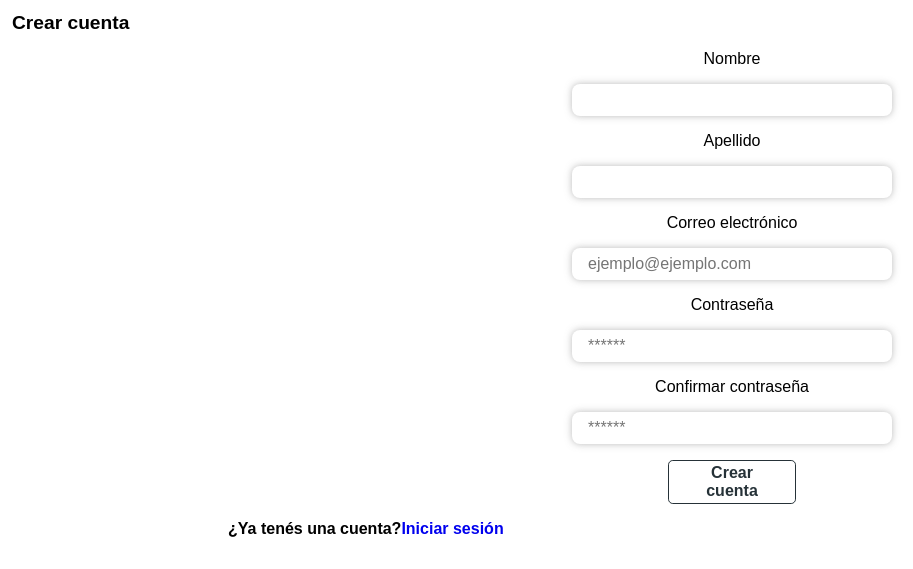
Pruebas en <CreateAccount /> › Funcionamiento del mensaje de error en el input "Confirmar contraseña"
The image size is (913, 569).
Type "123456" into the password field labelled "Contraseña" at (732, 346), box [572, 330, 892, 362]
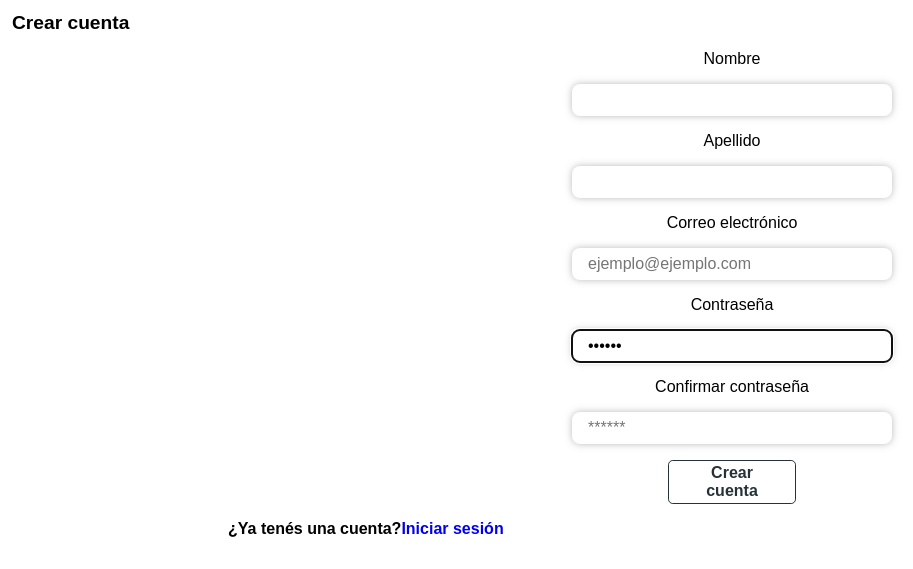
Type "123456789" into the password field labelled "Confirmar contraseña" at (732, 428), box [572, 412, 892, 444]
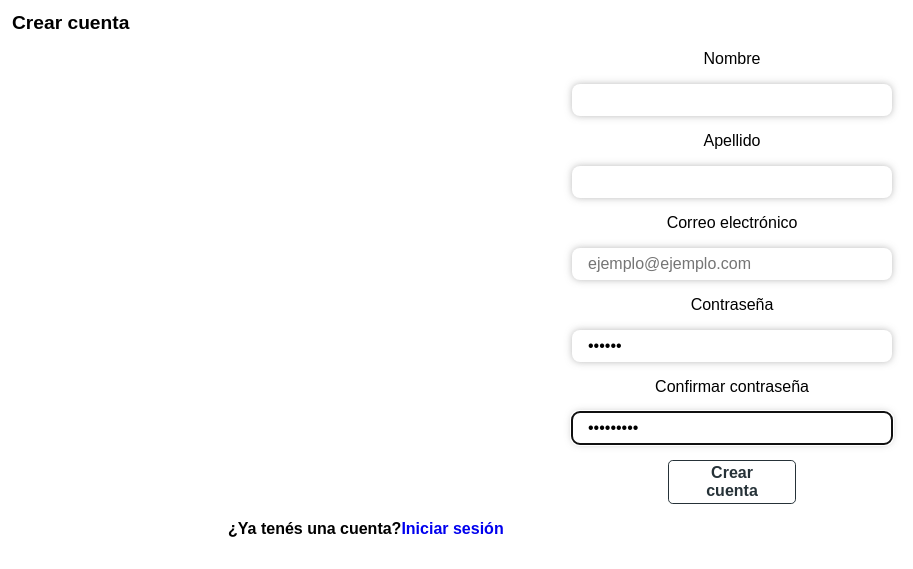
// Click en boton 'Crear cuenta' para lanzar error
Click the button "Crear cuenta" at (732, 482), box [668, 460, 796, 504]
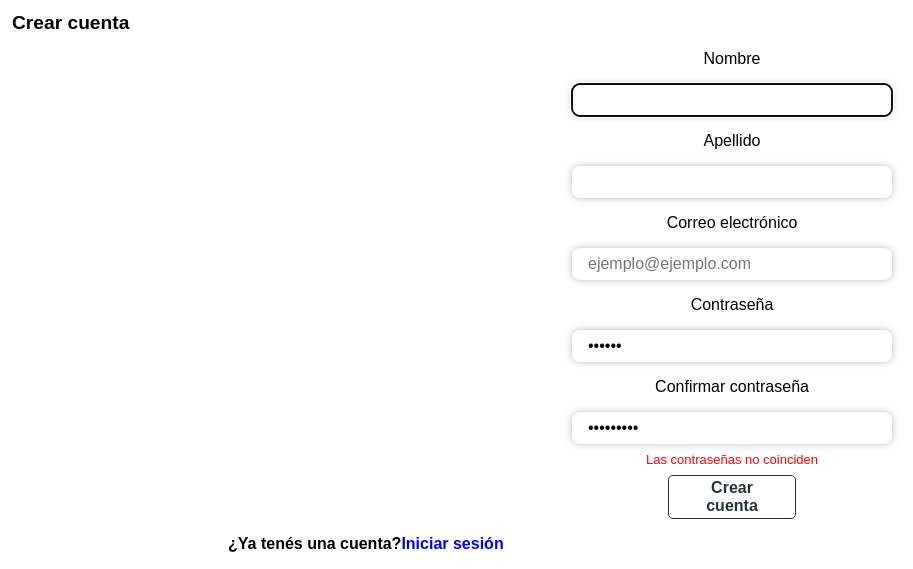
Check: the text "Las contraseñas no coinciden" is shown, box [646, 452, 818, 467]
